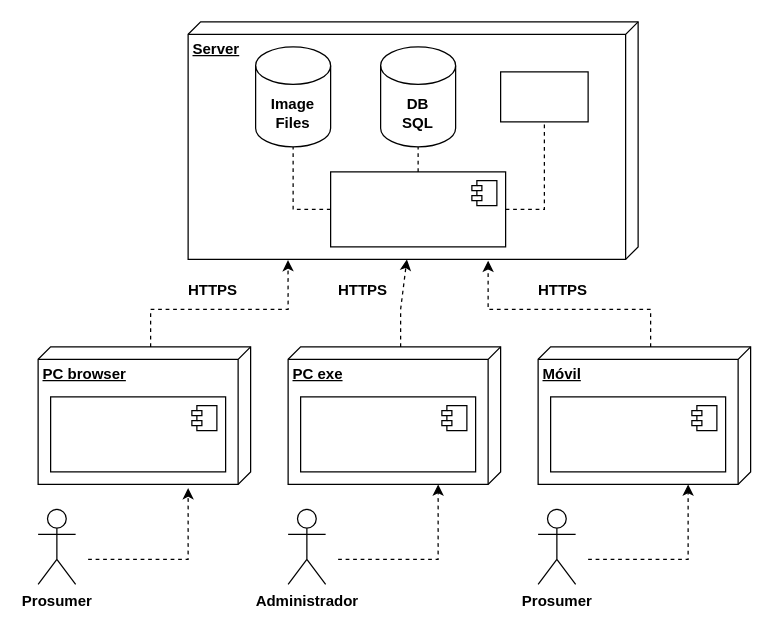
Image size: 773x633. Some labels were removed from this diagram. The shapes that lost their labels are listed below. From the top down, each one's centre as x and y in pixels, then its label:
At [543,96]: "Server SMTP".
At [417,209]: "«Backend» API".
At [137,434]: "«Frontend» App Web".
At [387,434]: "«Frontend» App Desktop".
At [637,434]: "«Frontend» App Móvil".
